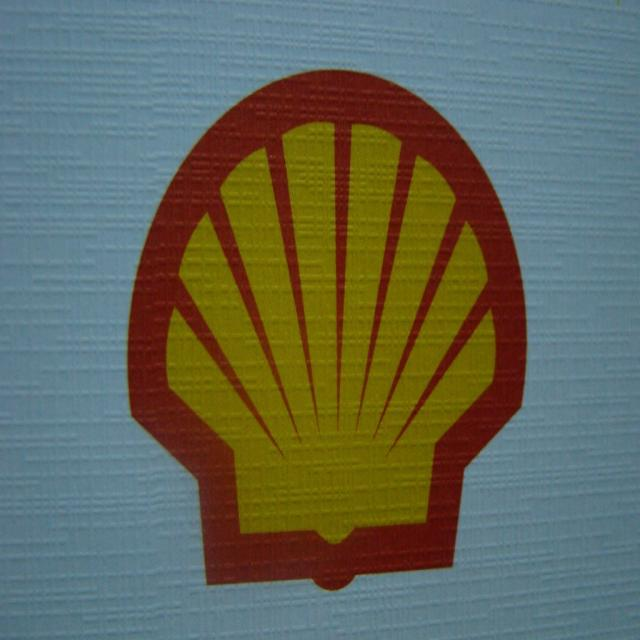shell: (129, 68, 531, 592)
